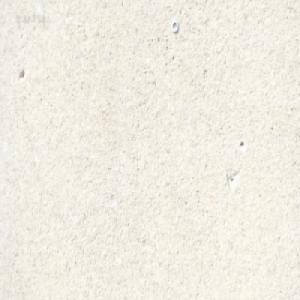Washer: (171, 19, 178, 33)
